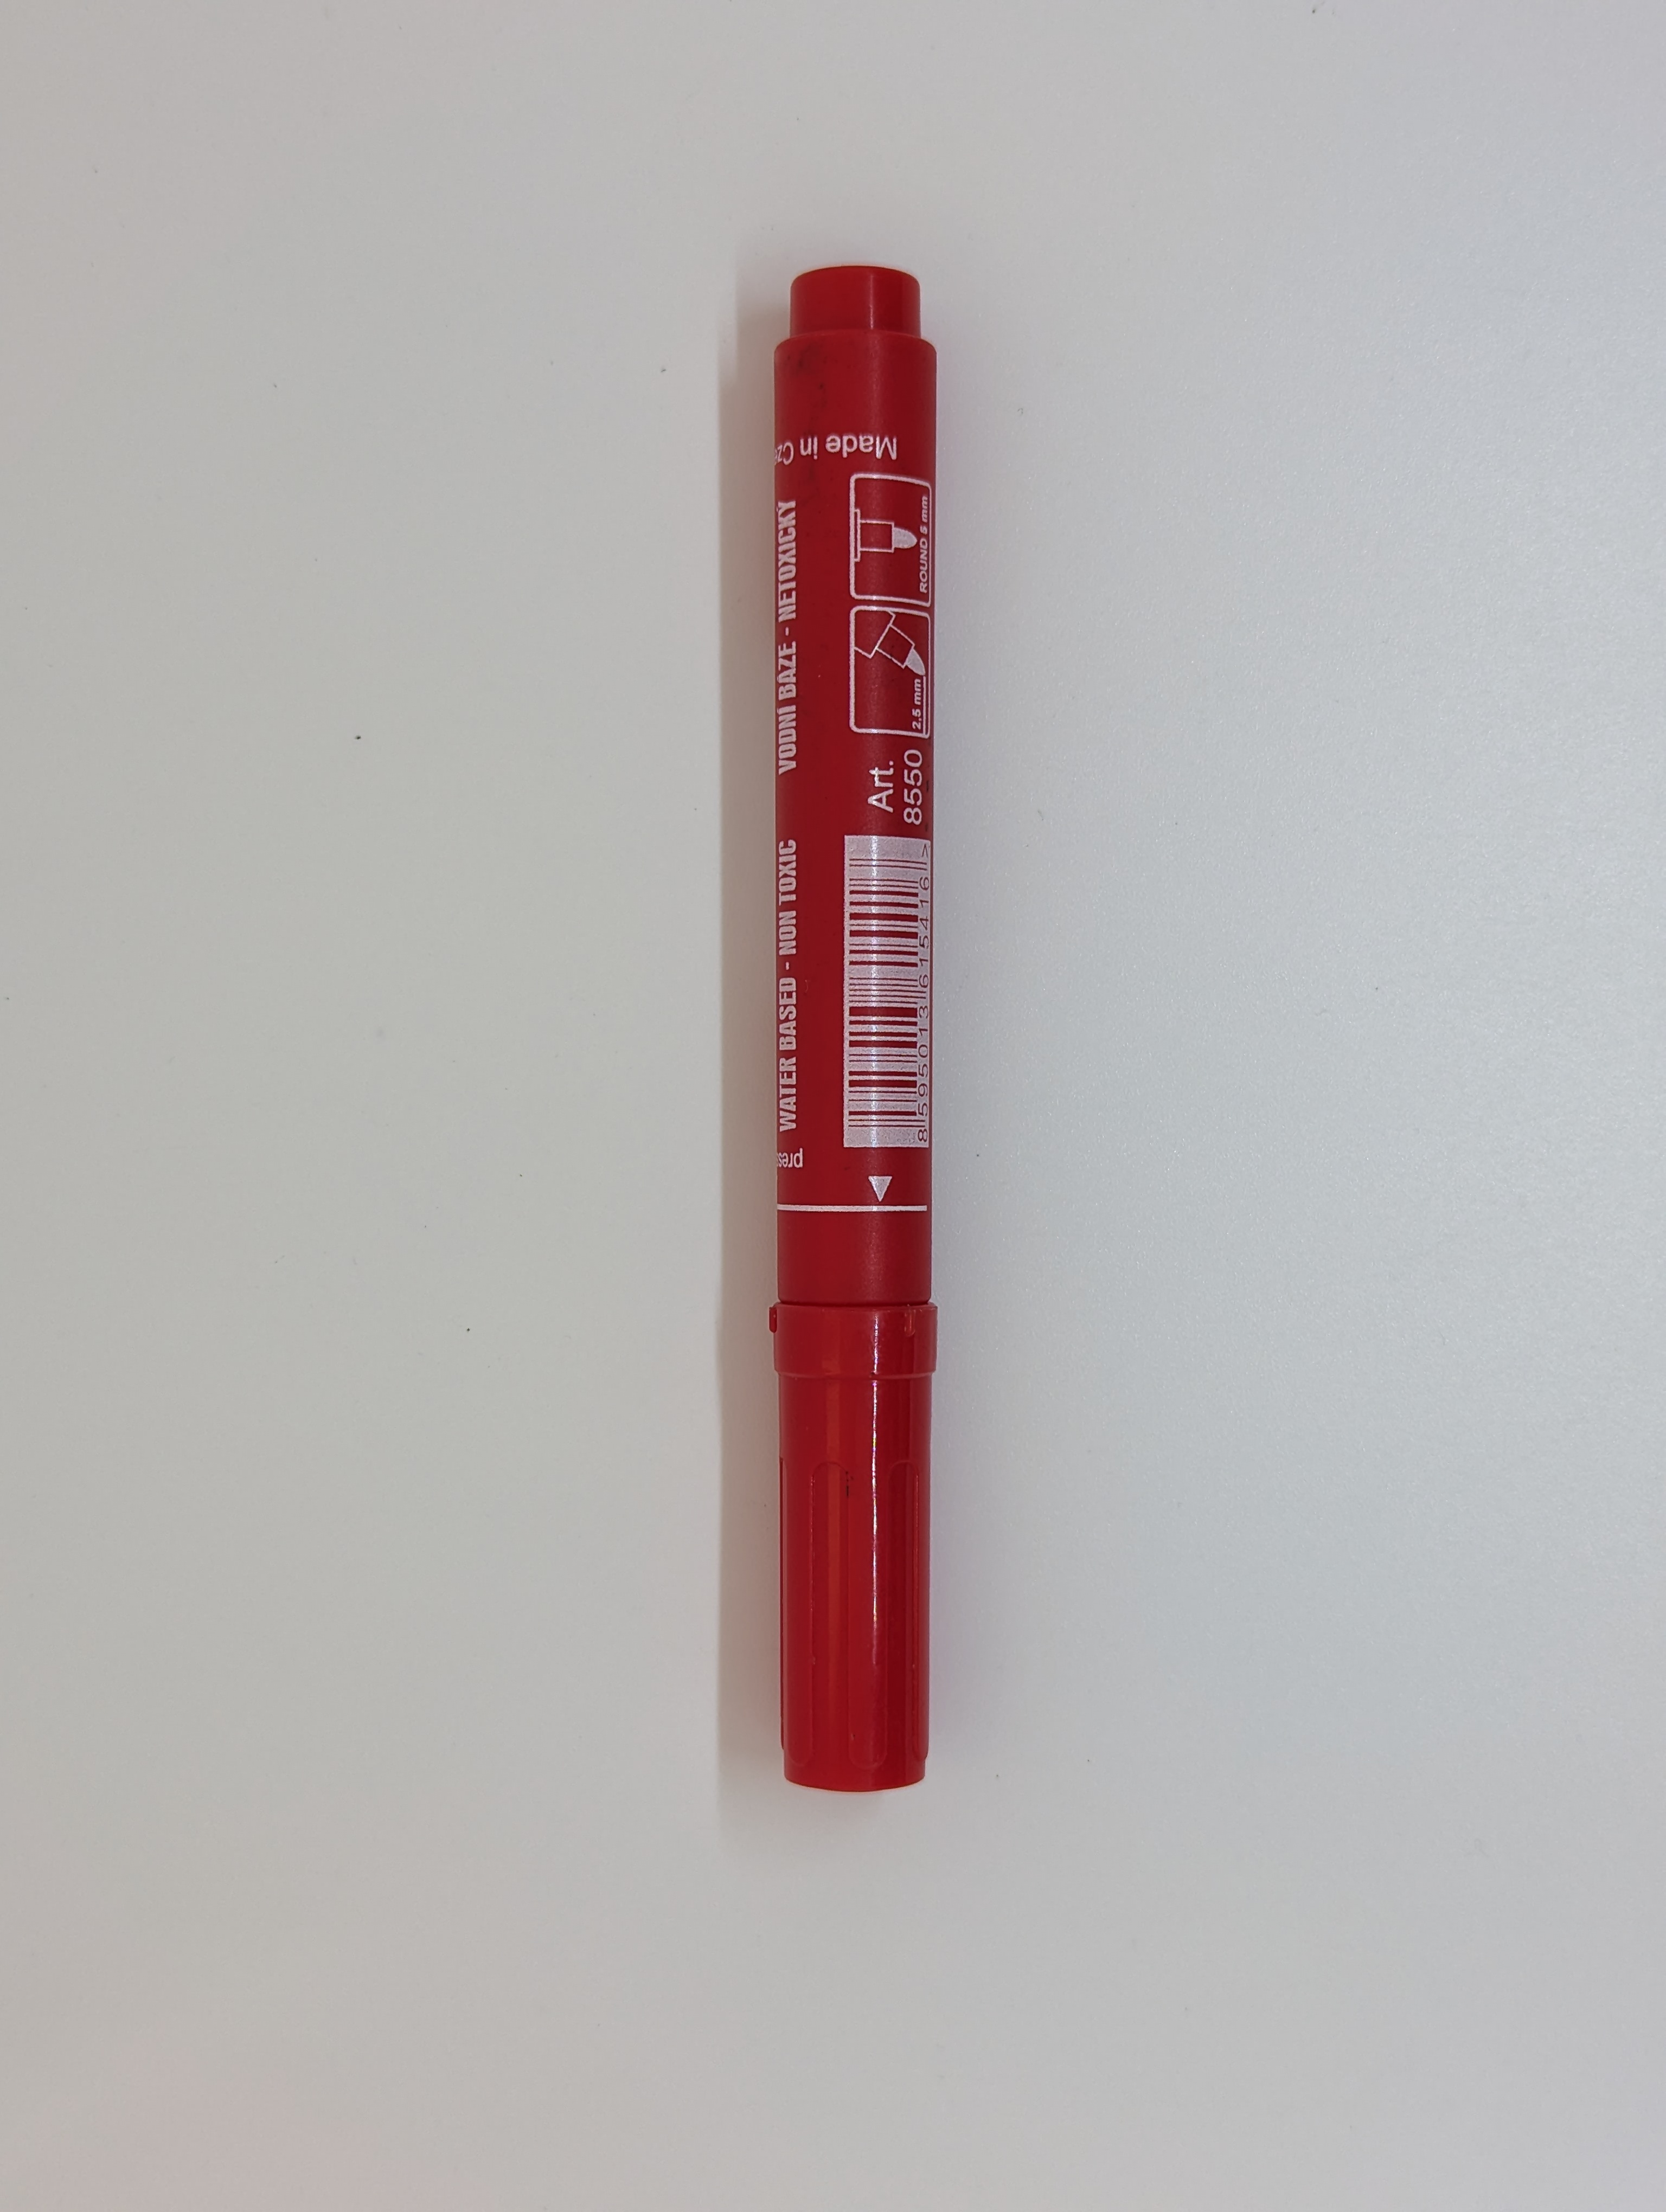red-red-stylo: (725, 231, 984, 1808)
